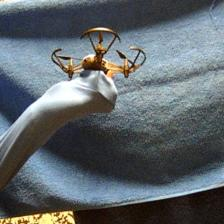drone: (51, 27, 148, 81)
